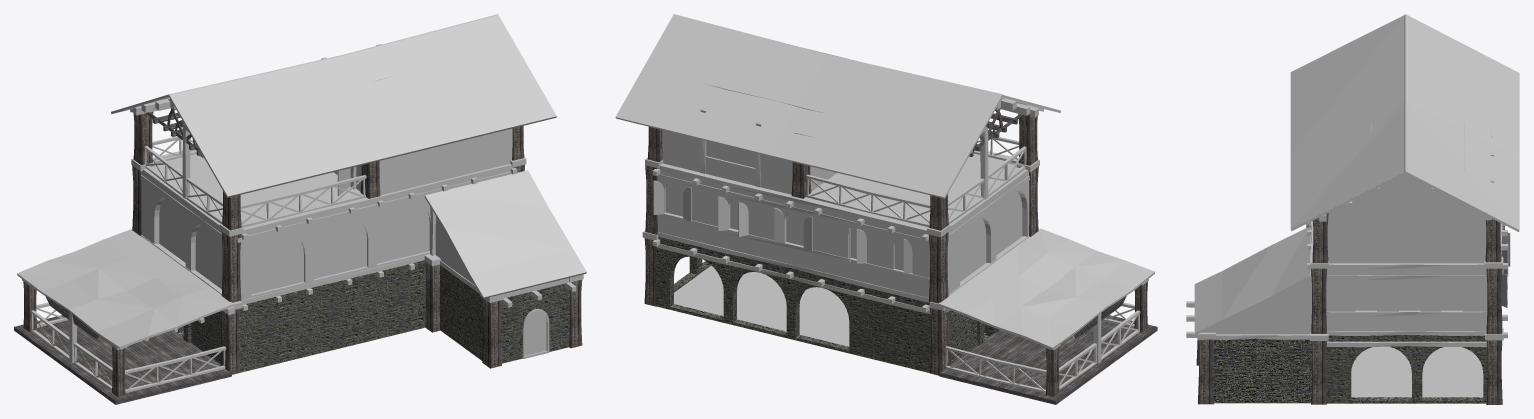
The model's file is tavern2.dae.
3 renders of one model, left to right at view 1: azimuth 30°, elevation 25°; view 2: azimuth 150°, elevation 25°; view 3: azimuth 270°, elevation 25°, orthographic. The views are drawn at different scales.
Visible parts, largest first — view 1: house; view 2: house; view 3: house.
Boxes of the visible parts, bbox=[...] form: house: bbox=[14, 14, 586, 404]; house: bbox=[615, 14, 1157, 404]; house: bbox=[1186, 14, 1519, 404].
Size of the model in its own units: 33.91 by 18.75 by 23.09.
